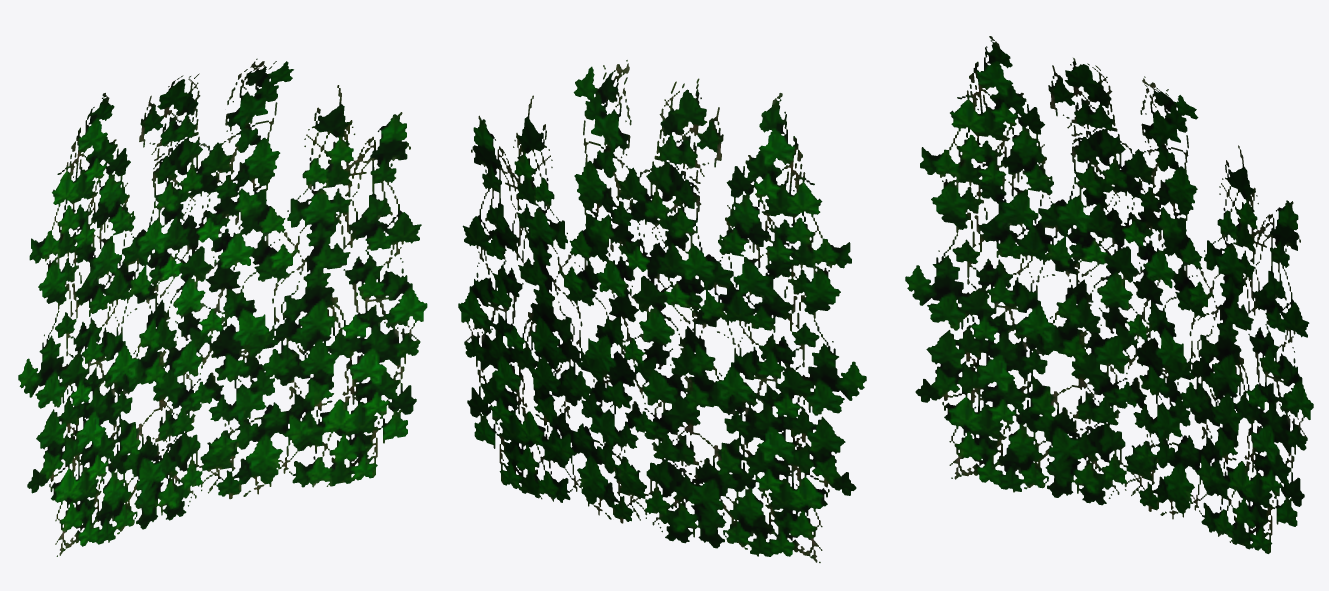
The model's file is INST_HTOWN_IVY.obj.
3 views of the same model, side by side, from view 1: azimuth 30°, elevation 25°; view 2: azimuth 150°, elevation 25°; view 3: azimuth 330°, elevation 25° (orthographic).
Visible parts, largest first — view 1: Ivy; view 2: Ivy; view 3: Ivy.
Boxes of the visible parts, <box> form: Ivy: <box>18,58,427,556</box>; Ivy: <box>458,60,866,562</box>; Ivy: <box>905,36,1313,553</box>.
Size of the model in its own units: 282 by 300 by 24.88.
